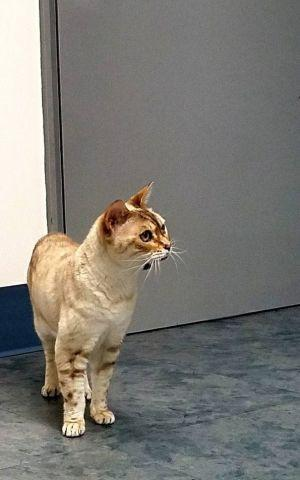bengal: (99, 182, 180, 276)
